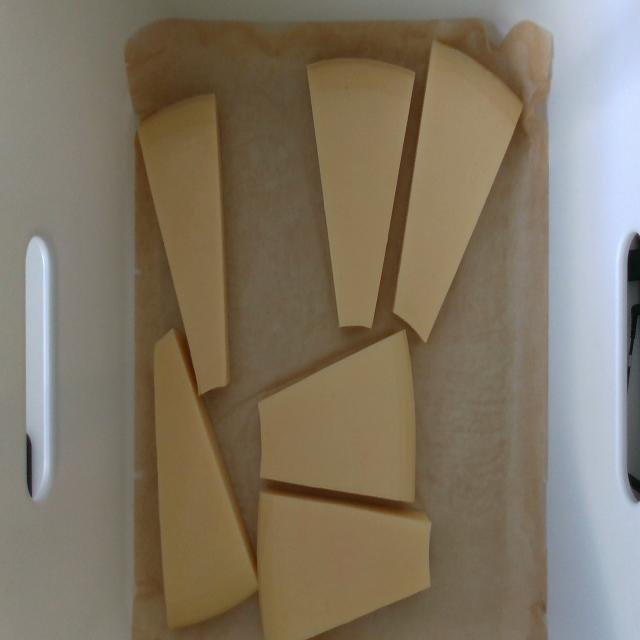cheese: (392, 43, 523, 340), (156, 332, 257, 627), (308, 60, 414, 326), (258, 331, 414, 502), (139, 95, 228, 393), (258, 491, 430, 639)
